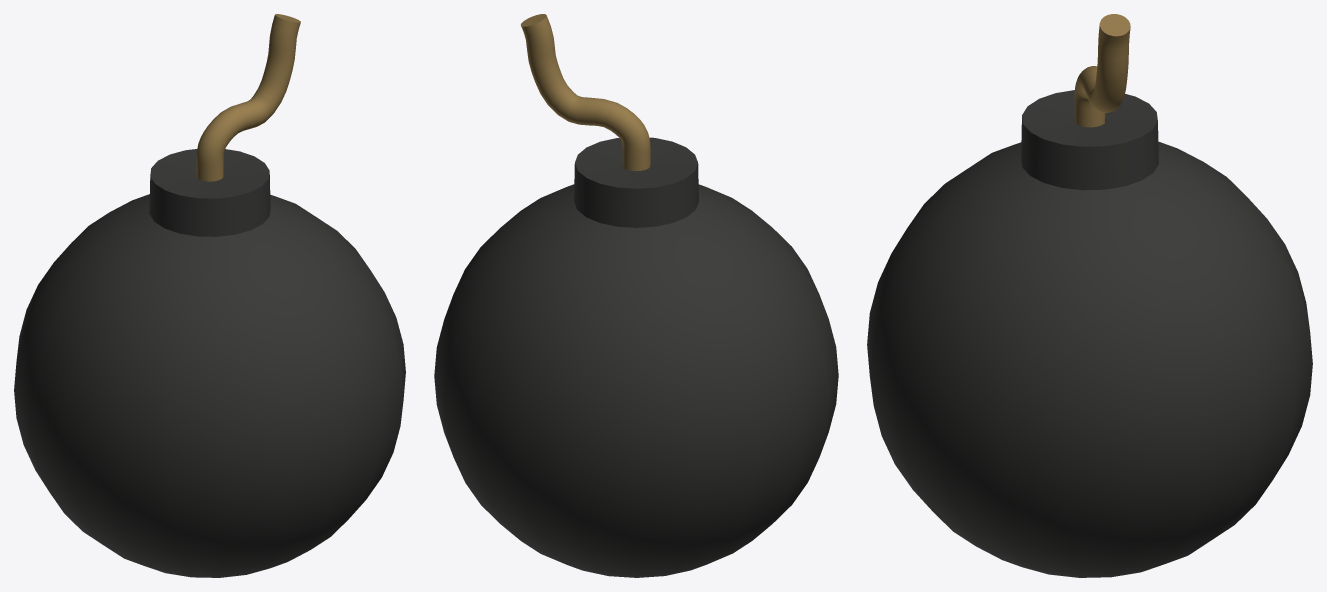
File: Bomb_Round.fbx
3 renders of one model, left to right at view 1: azimuth 30°, elevation 25°; view 2: azimuth 150°, elevation 25°; view 3: azimuth 270°, elevation 25°, orthographic. The views are drawn at different scales.
Parts seen in each view (by area): view 1: bomb1; view 2: bomb1; view 3: bomb1.
Boxes of the visible parts, x1,y1,x2,y2 form: bomb1: (14, 14, 405, 577); bomb1: (434, 14, 838, 577); bomb1: (867, 14, 1312, 577).
Bounding box in the file's own units: 0.5139 × 0.7463 × 0.5139.
Materials: 2 (2 with a texture image).
